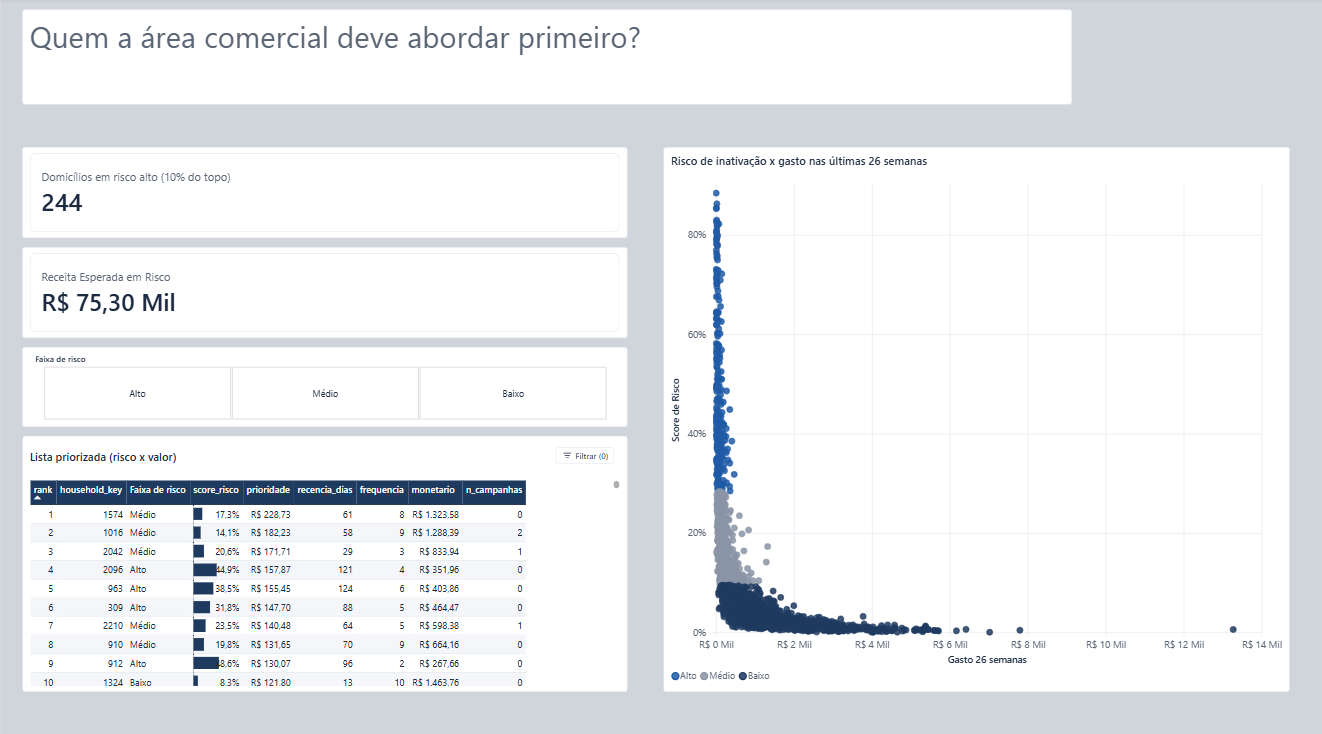

The dashboard page shown, as its layout file describes it:
{"tool":"powerbi","page":{"name":"Página 3","canvas":[1920,1080],"ordinal":2},"visuals":[{"type":"textbox","box":[30.8,18.1,1521.2,137.6],"z":0},{"type":"cardVisual","fields":{"Data":["_Medidas.Domicílios Risco Alto"]},"box":[30.8,217.3,876.5,132.2],"z":1000},{"type":"scatterChart","title":"Risco de inativação x gasto nas últimas 26 semanas","fields":{"Category":["fato_domicilio_corte.household_key"],"Series":["fato_domicilio_corte.Faixa de risco"],"X":["_Medidas.Gasto 26 semanas"],"Y":["_Medidas.Score de Risco"]},"box":[959.8,217.3,907.3,789.5],"z":2000},{"type":"tableEx","title":"Lista priorizada (risco x valor)","fields":{"Values":["fato_domicilio_corte.rank_prioridade","fato_domicilio_corte.household_key","fato_domicilio_corte.Faixa de risco","fato_domicilio_corte.score_risco","fato_domicilio_corte.prioridade","fato_domicilio_corte.recencia_dias","fato_domicilio_corte.frequencia","fato_domicilio_corte.monetario","fato_domicilio_corte.n_campanhas"]},"box":[30.8,635.6,876.5,371.2],"z":3000},{"type":"slicer","fields":{"Values":["fato_domicilio_corte.Faixa de risco"]},"box":[30.8,507.1,876.5,115.9],"z":4000},{"type":"cardVisual","fields":{"Data":["_Medidas.Receita Esperada em Risco"]},"box":[30.8,362.2,876.5,132.2],"z":5000}]}

Visuals, with their boxes in screenshot pixels (x1, y1, x2, y2), scaled from the page's 1920x1080 canvas onto the 1322x734 screenshot:
textbox: (left=21, top=12, right=1069, bottom=106)
cardVisual - _Medidas.Domicílios Risco Alto: (left=21, top=148, right=625, bottom=238)
"Risco de inativação x gasto nas últimas 26 semanas" scatterChart: (left=661, top=148, right=1286, bottom=684)
"Lista priorizada (risco x valor)" tableEx: (left=21, top=432, right=625, bottom=684)
slicer - fato_domicilio_corte.Faixa de risco: (left=21, top=345, right=625, bottom=423)
cardVisual - _Medidas.Receita Esperada em Risco: (left=21, top=246, right=625, bottom=336)
